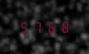eight: (57, 19, 69, 33)
five: (18, 20, 30, 34)
seven: (31, 20, 43, 34)
six: (44, 19, 56, 33)
